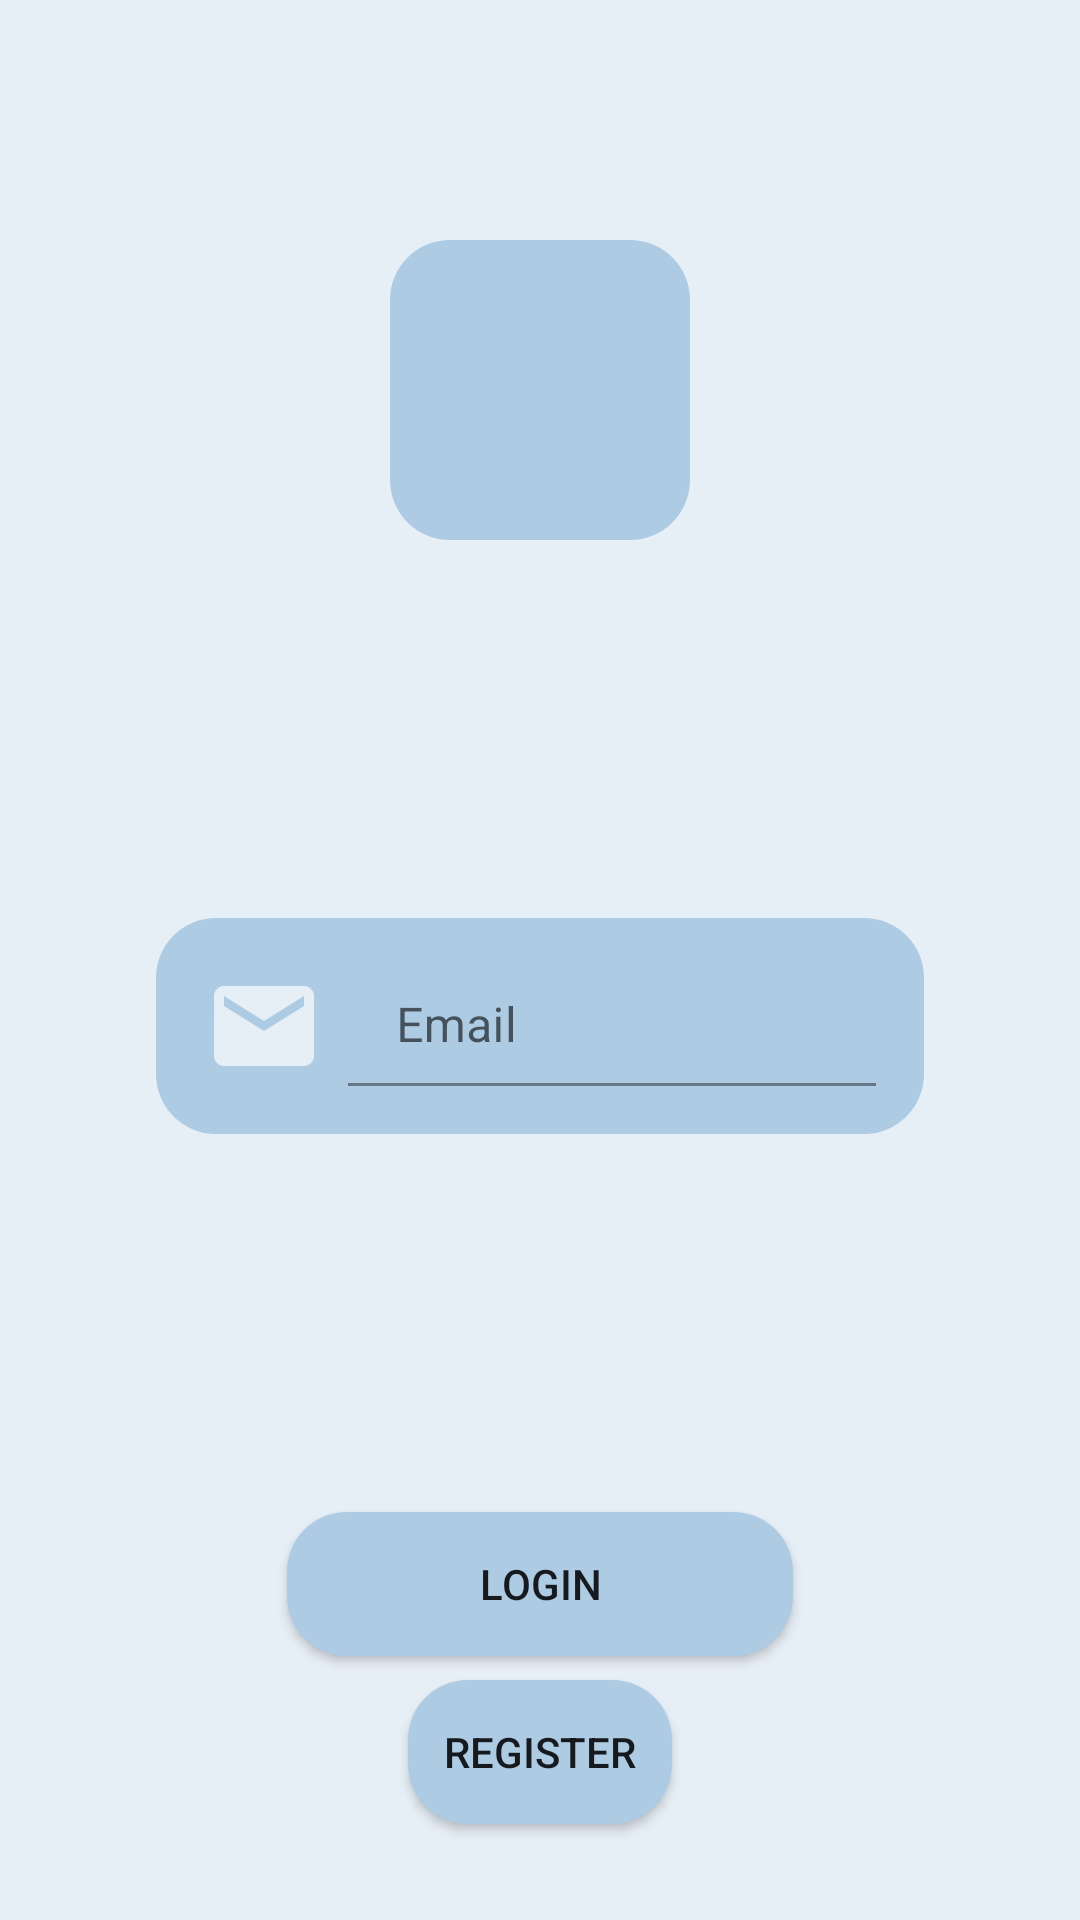

Screen size 1080px×1920px. Icon name, then its box in pixels as (x1, y1, x2, y2):
email: (214, 986, 314, 1066)
